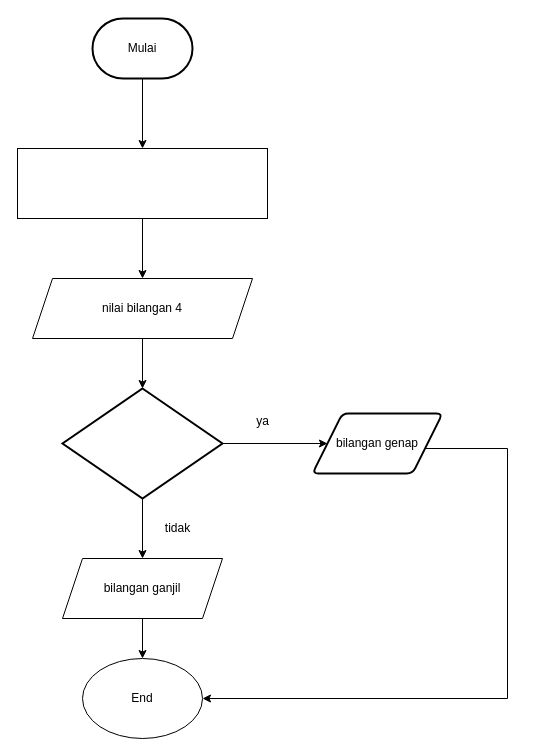
Image size: 533x756. Some labels were removed from this diagram. Each missing label, with the centre of its shape:
"bilangan 4%2=0" goes at (x=142, y=443).
"jika bil %2=0, maka genap jika bil %2bukan=0,maka ganjil" goes at (x=142, y=183).
